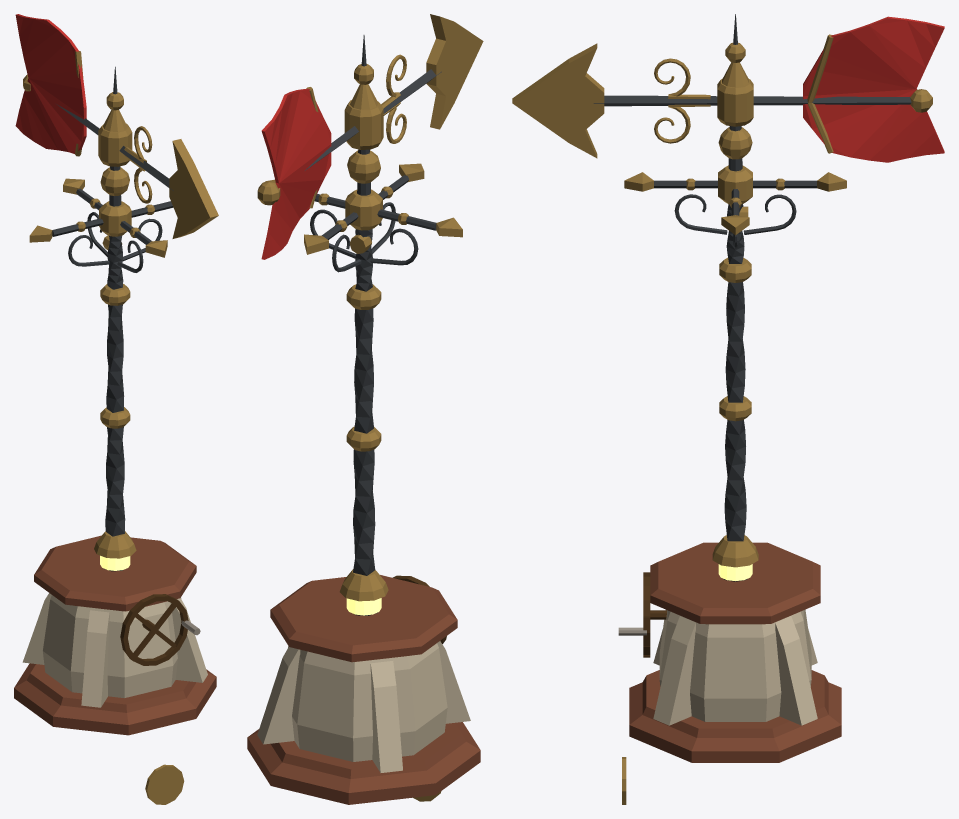
The model's file is weathervane.fbx.
3 views of the same model, side by side, from view 1: azimuth 30°, elevation 25°; view 2: azimuth 150°, elevation 25°; view 3: azimuth 270°, elevation 25° (orthographic). The views are drawn at different scales.
Visible parts, largest first — view 1: Base, Head, Crank, AlignedLamp; view 2: Base, Head, AlignedLamp; view 3: Base, Head, Crank.
Boxes of the visible parts, left/top/right/bottom form: Base: left=14, top=166, right=216, bottom=804; Head: left=15, top=14, right=218, bottom=249; Crank: left=120, top=594, right=200, bottom=665; AlignedLamp: left=100, top=555, right=130, bottom=570; Base: left=247, top=149, right=480, bottom=804; Head: left=257, top=14, right=483, bottom=259; AlignedLamp: left=346, top=598, right=381, bottom=615; Base: left=622, top=126, right=846, bottom=804; Head: left=512, top=14, right=944, bottom=216; Crank: left=618, top=572, right=666, bottom=657.
Bounding box in the file's own units: 314 × 1227 × 610.
